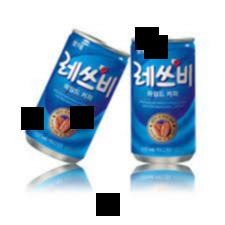letsbe: (24, 28, 130, 165), (130, 36, 197, 165)
